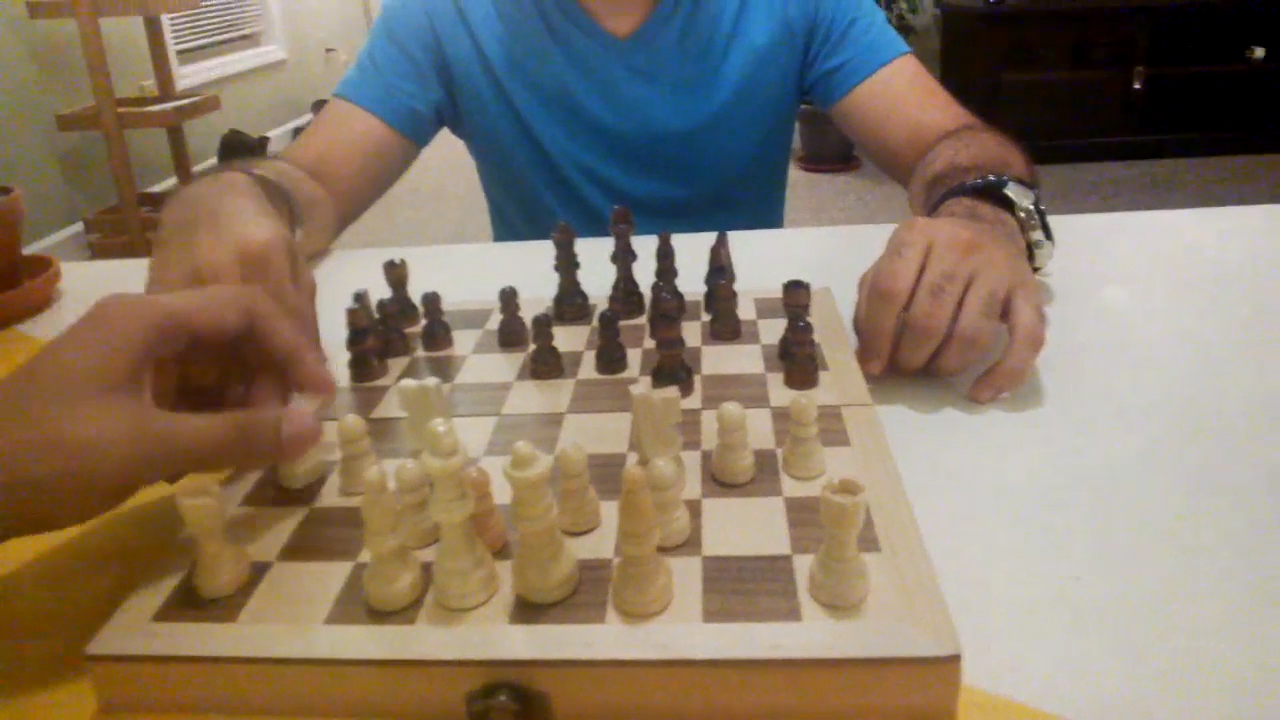hand: (7, 282, 335, 536), (854, 230, 1047, 401), (151, 181, 320, 341)
